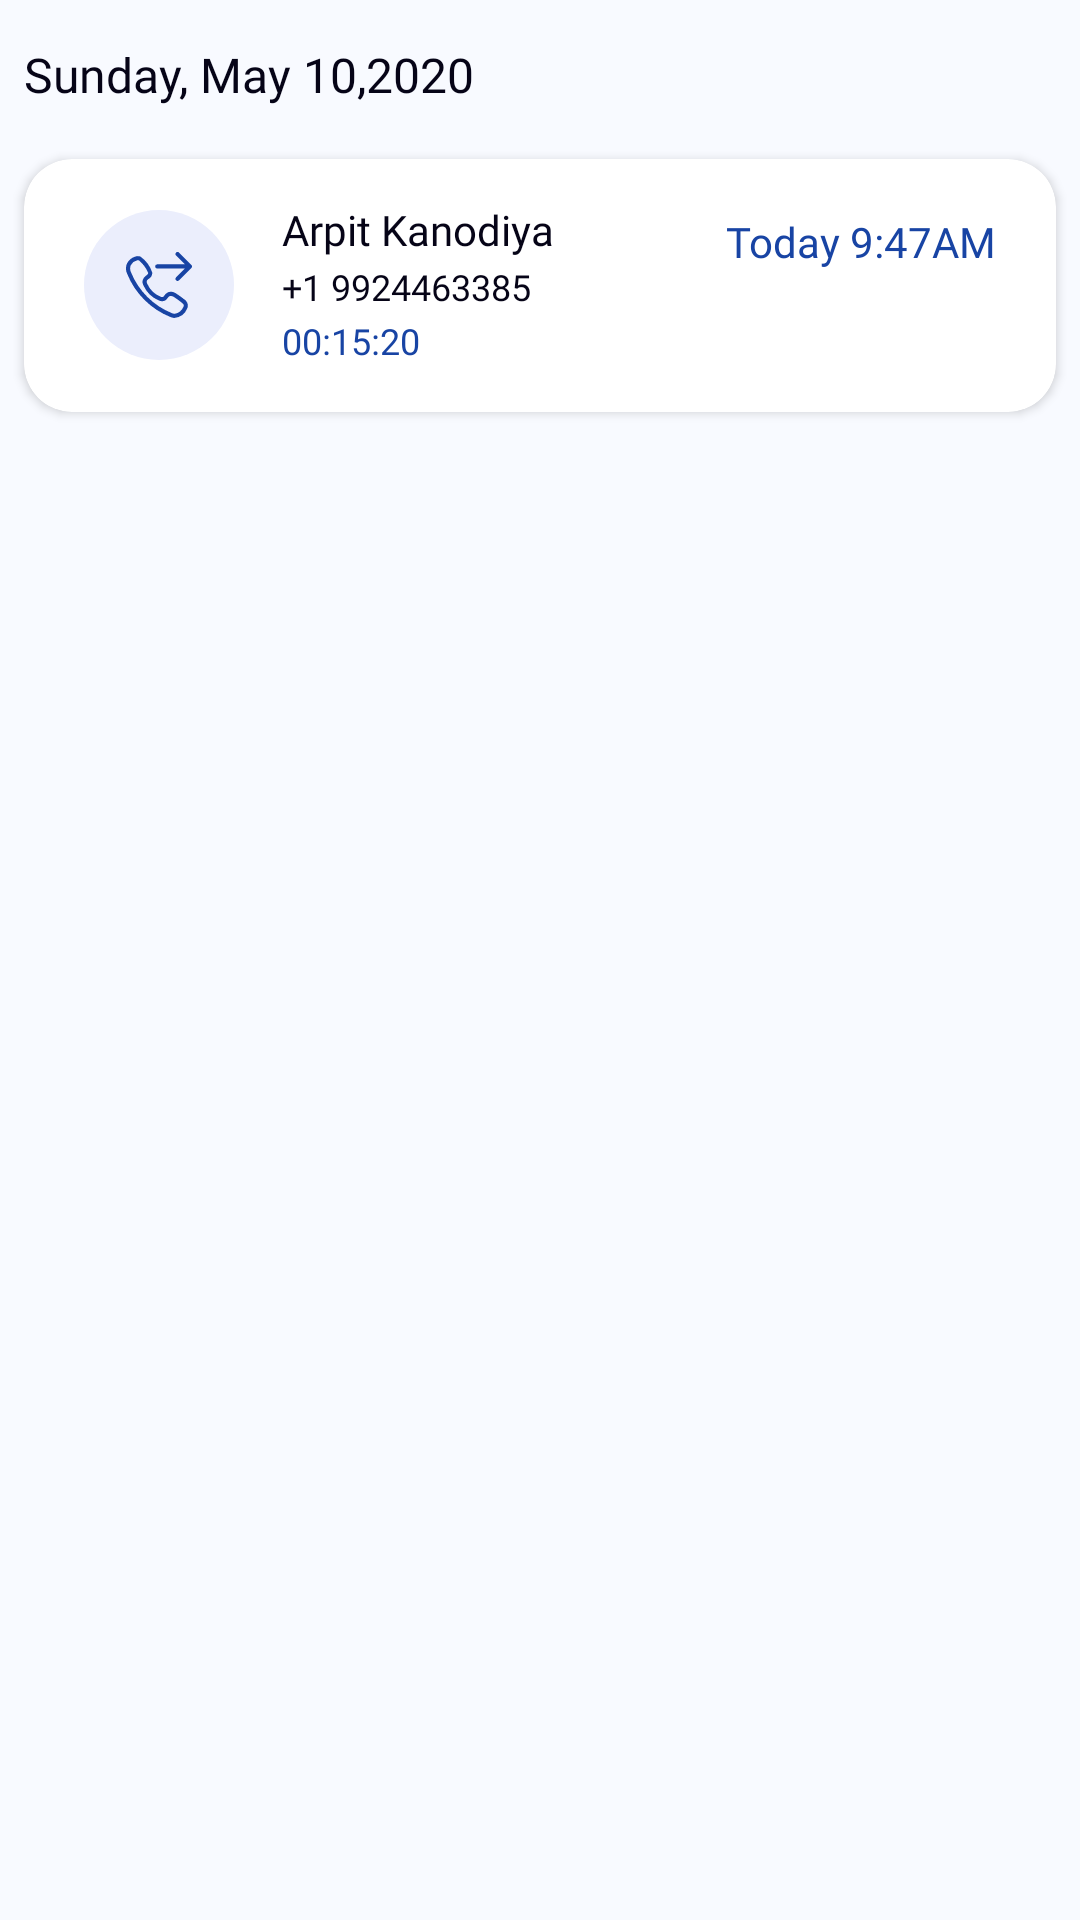

Icon bounding boxes for this 1080px×1920px phone screenshot, format [x1,y1,x2,y2]:
call: [126,252,192,318]
